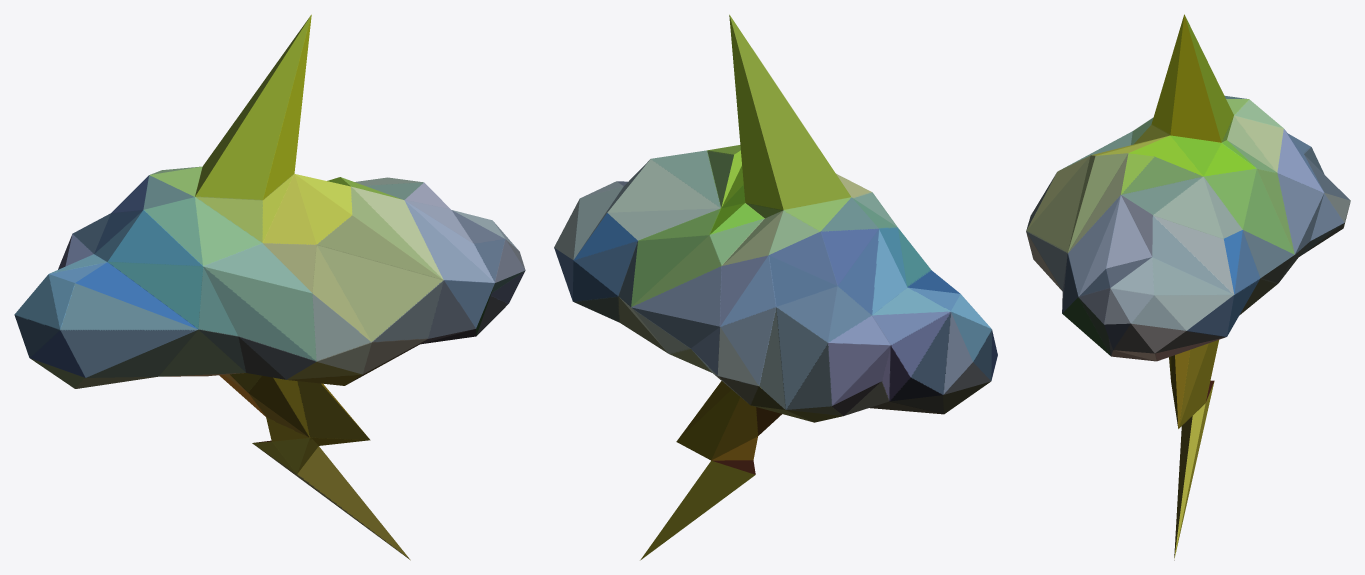
The model's file is storm.fbx.
3 views of the same model, side by side, from view 1: azimuth 30°, elevation 25°; view 2: azimuth 150°, elevation 25°; view 3: azimuth 270°, elevation 25° (orthographic). The views are drawn at different scales.
Visible parts, largest first — view 1: Mesh_0; view 2: Mesh_0; view 3: Mesh_0.
Boxes of the visible parts, bbox=[...] form: Mesh_0: bbox=[14, 14, 525, 560]; Mesh_0: bbox=[554, 14, 997, 560]; Mesh_0: bbox=[1026, 14, 1350, 560].
Size of the model in its own units: 96.93 by 117 by 67.98.
Materials: 1 (1 with a texture image).
